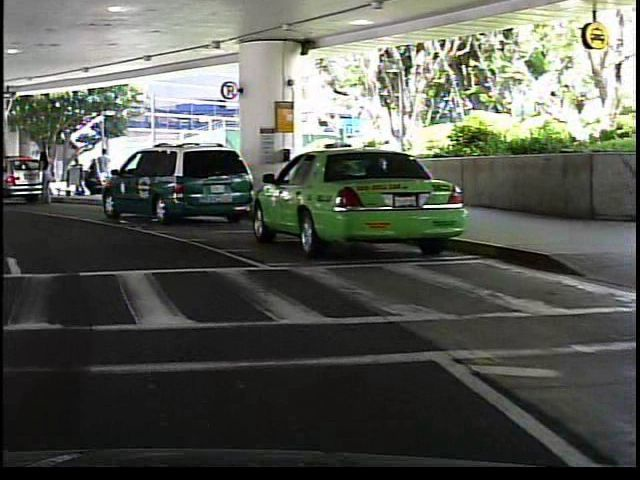person: (34, 152, 53, 205)
